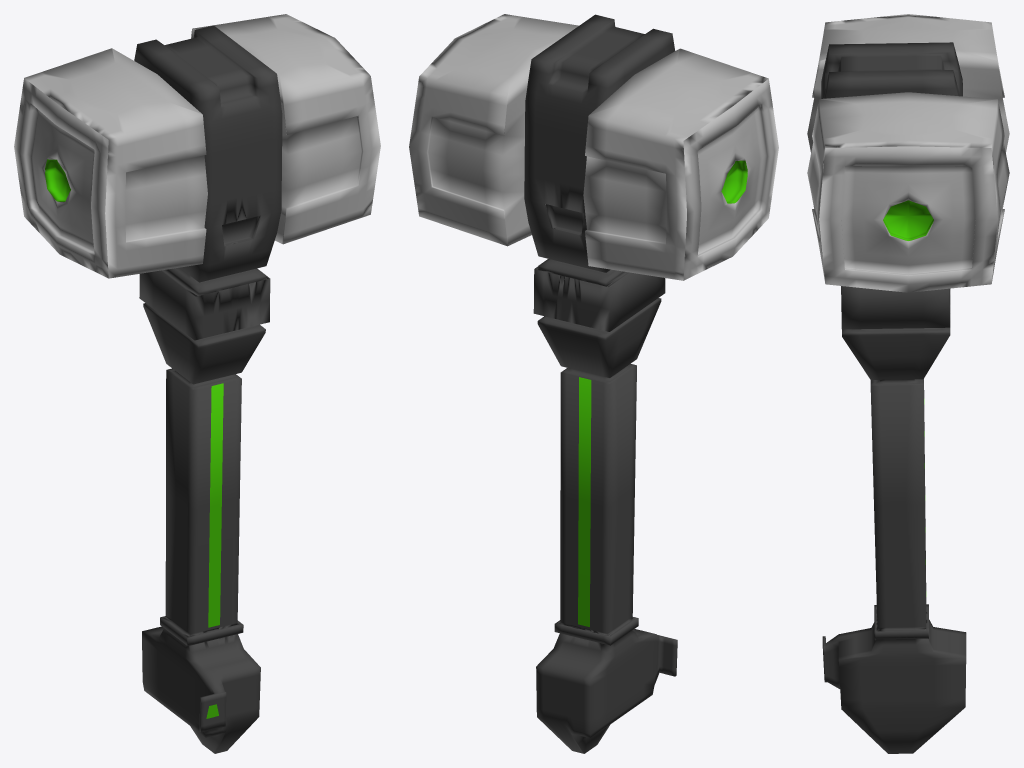
The model's file is Martelo.fbx.
3 renders of one model, left to right at view 1: azimuth 30°, elevation 25°; view 2: azimuth 150°, elevation 25°; view 3: azimuth 270°, elevation 25°, orthographic. The views are drawn at different scales.
Visible parts, largest first — view 1: Cabeca; view 2: Cabeca; view 3: Cabeca.
Boxes of the visible parts, box(x1,y1,x2,y2) form: Cabeca: box(14, 14, 380, 753); Cabeca: box(409, 14, 778, 753); Cabeca: box(807, 14, 1009, 753).
Bounding box in the file's own units: 14.1 × 8.87 × 33.09.
